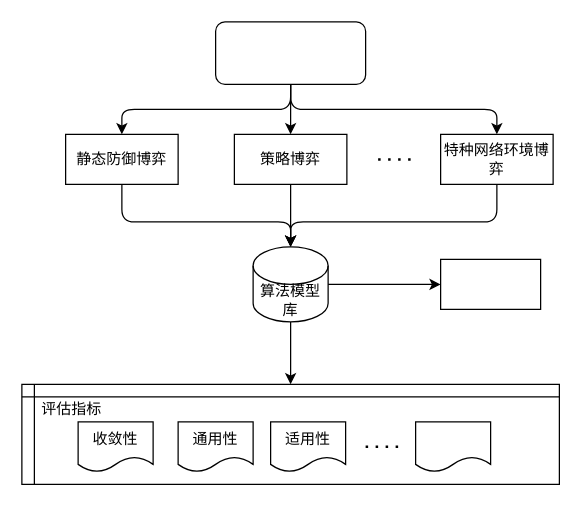
Some shapes in this 581 by 506 pixel diagram are drawn without their labels. The centre of each missing label's shape, as x and y in pixels:
"仿真训练" goes at (x=490, y=283).
"实验对照" goes at (x=452, y=446).
"网络攻防博弈 模拟场景选择" goes at (x=290, y=52).
